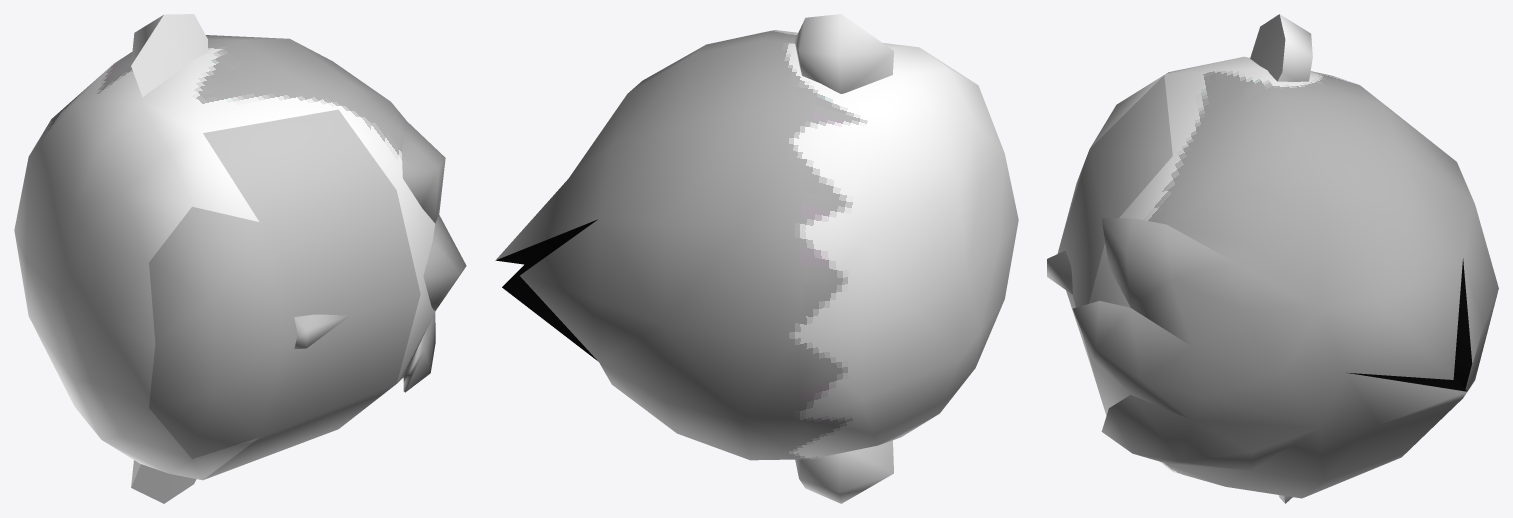
Rendered from boy08a.dae.
3 renders of one model, left to right at view 1: azimuth 30°, elevation 25°; view 2: azimuth 150°, elevation 25°; view 3: azimuth 270°, elevation 25°, orthographic.
Visible parts, largest first — view 1: vsn_mesh_0_, vsn_mesh_1_, vsn_mesh_2_; view 2: vsn_mesh_0_; view 3: vsn_mesh_0_, vsn_mesh_1_.
Boxes of the visible parts, x1=… form: vsn_mesh_0_: x1=14, y1=14, x2=466, y2=503; vsn_mesh_1_: x1=203, y1=109, x2=420, y2=479; vsn_mesh_2_: x1=149, y1=206, x2=285, y2=459; vsn_mesh_0_: x1=495, y1=14, x2=1018, y2=503; vsn_mesh_0_: x1=1073, y1=14, x2=1498, y2=503; vsn_mesh_1_: x1=1047, y1=75, x2=1172, y2=413.
Bounding box in the file's own units: 21.28 × 26.71 × 22.61.
3 materials, 1 textured.
